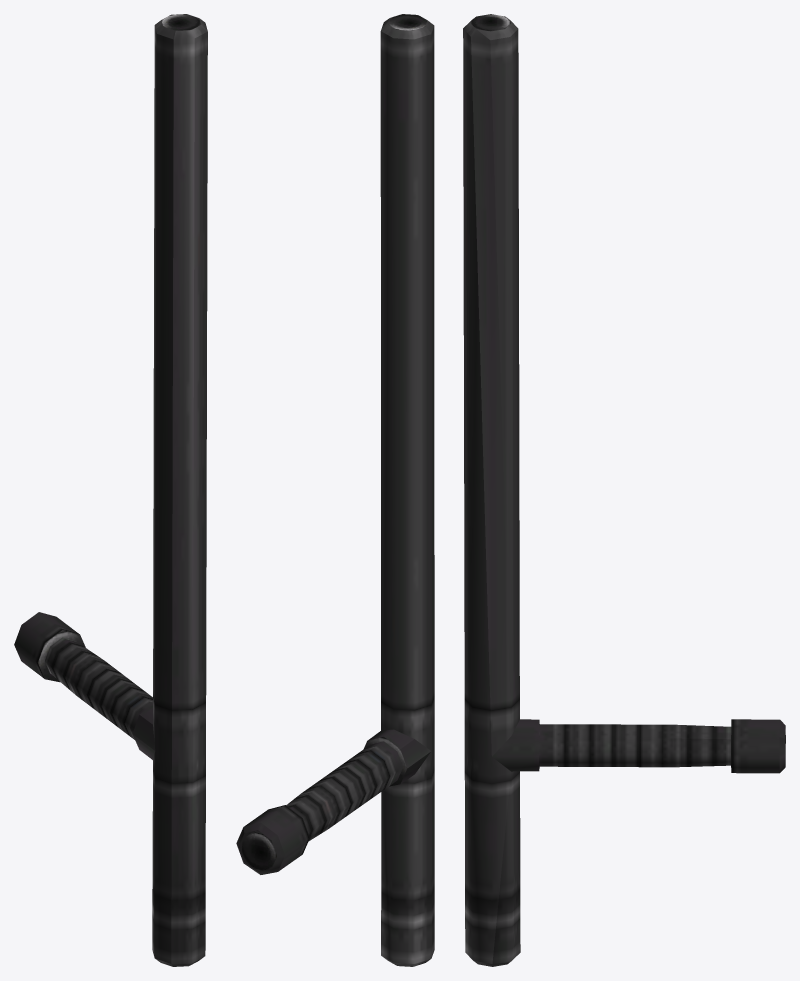
File: Nightstick.obj
The picture shows the model from 3 angles, left to right: view 1: azimuth 30°, elevation 25°; view 2: azimuth 150°, elevation 25°; view 3: azimuth 270°, elevation 25°; orthographic projection.
Parts seen in each view (by area): view 1: Nightstick; view 2: Nightstick; view 3: Nightstick.
Boxes of the visible parts, x1,y1,x2,y2 form: Nightstick: (14,14,207,966); Nightstick: (236,14,434,966); Nightstick: (463,14,785,966).
Size of the model in its own units: 0.0366 by 0.6264 by 0.1957.
Materials: 1 (1 with a texture image).
